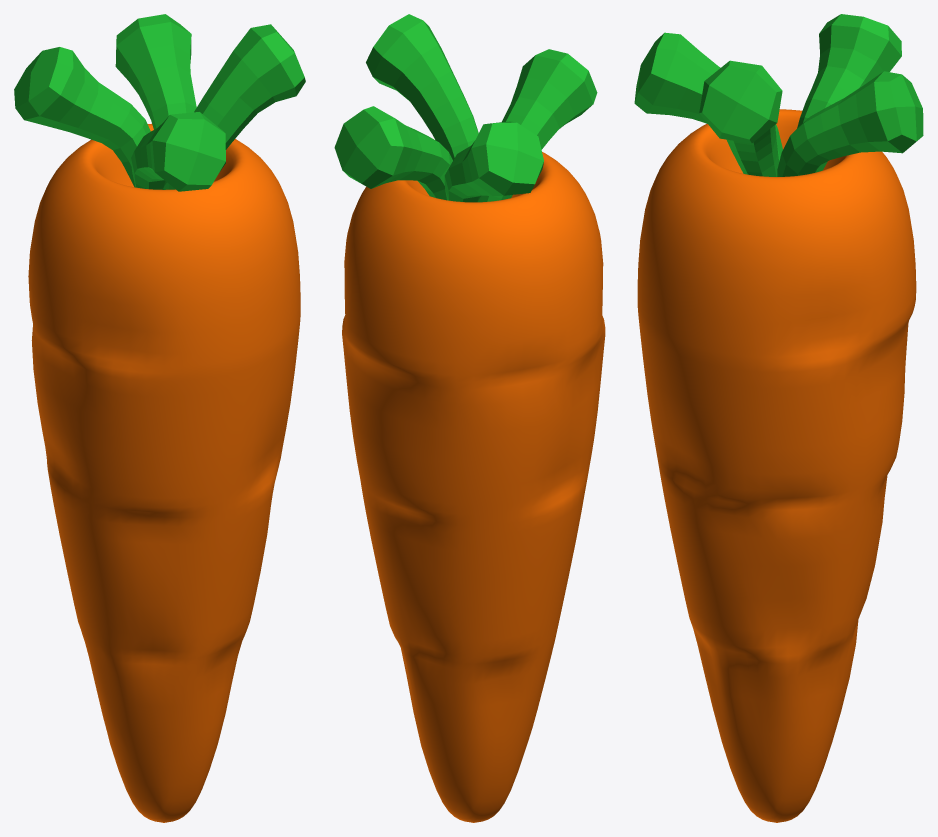
File: havuc.fbx
3 views of the same model, side by side, from view 1: azimuth 30°, elevation 25°; view 2: azimuth 150°, elevation 25°; view 3: azimuth 270°, elevation 25° (orthographic). The views are drawn at different scales.
Parts seen in each view (by area): view 1: Cylinder, Cube.041, Cube.039, Cube.040, Cube.037; view 2: Cylinder, Cube.039, Cube.040, Cube.041, Cube.037; view 3: Cylinder, Cube.040, Cube.039, Cube.041, Cube.037.
Part boxes in pixels (bbox=[...]): Cylinder: bbox=[28, 123, 300, 822]; Cube.041: bbox=[14, 47, 150, 187]; Cube.039: bbox=[168, 24, 305, 189]; Cube.040: bbox=[115, 14, 196, 129]; Cube.037: bbox=[131, 112, 225, 191]; Cylinder: bbox=[342, 152, 605, 822]; Cube.039: bbox=[366, 14, 478, 160]; Cube.040: bbox=[334, 106, 452, 200]; Cube.041: bbox=[444, 121, 543, 202]; Cube.037: bbox=[481, 49, 597, 202]; Cylinder: bbox=[637, 109, 916, 822]; Cube.040: bbox=[777, 71, 923, 176]; Cube.039: bbox=[699, 60, 782, 176]; Cube.041: bbox=[797, 14, 901, 172]; Cube.037: bbox=[634, 32, 782, 161].
Size of the model in its own units: 72.86 by 231 by 75.91.
